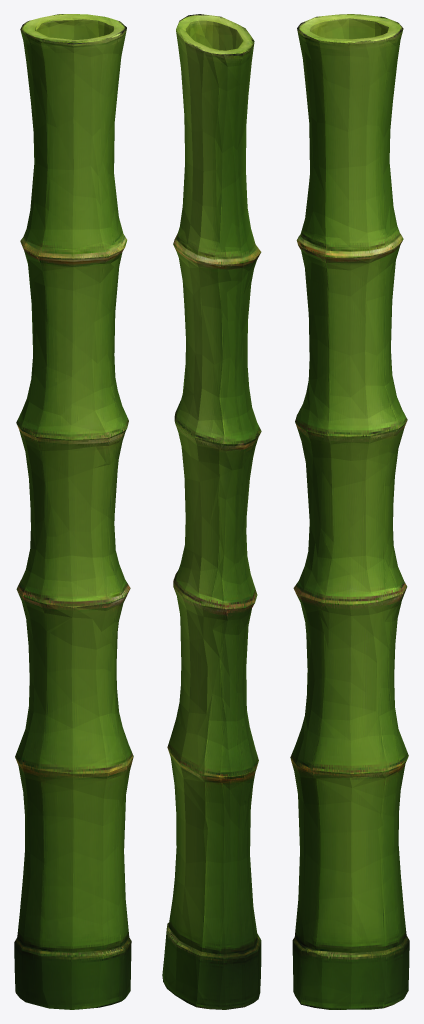
The model's file is bamboo.fbx.
The picture shows the model from 3 angles, left to right: view 1: azimuth 90°, elevation 25°; view 2: azimuth 210°, elevation 25°; view 3: azimuth 270°, elevation 25°; orthographic projection.
Parts seen in each view (by area): view 1: geometry_0; view 2: geometry_0; view 3: geometry_0.
Part boxes in pixels (bbox=[...]): geometry_0: bbox=[14, 14, 133, 1009]; geometry_0: bbox=[162, 14, 261, 1009]; geometry_0: bbox=[290, 14, 409, 1009].
Bounding box in the file's own units: 0.0833 × 1 × 0.1124.
Materials: 1 (1 with a texture image).
